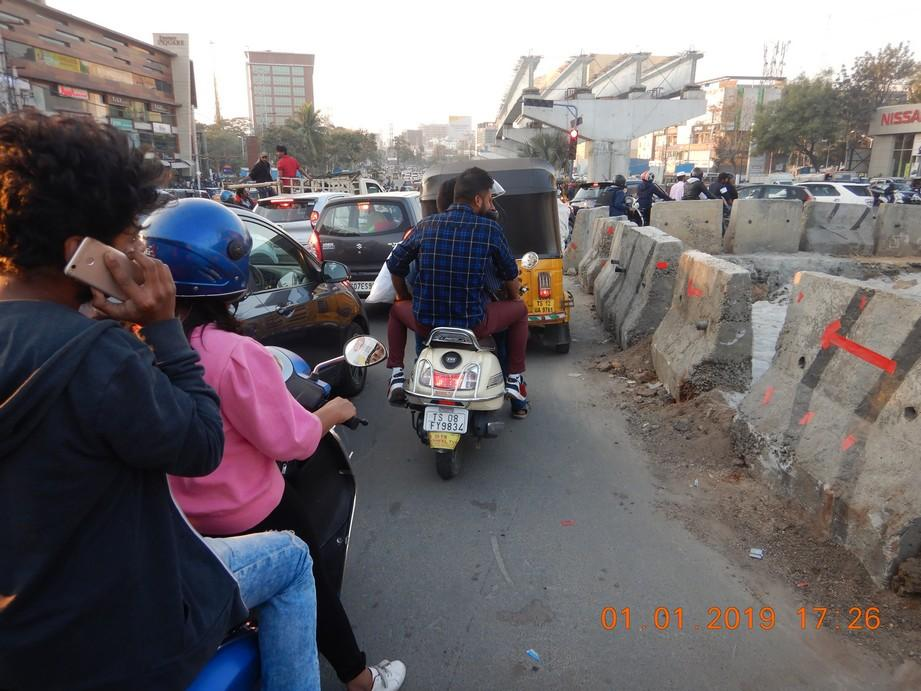plate: (425, 408, 467, 432)
